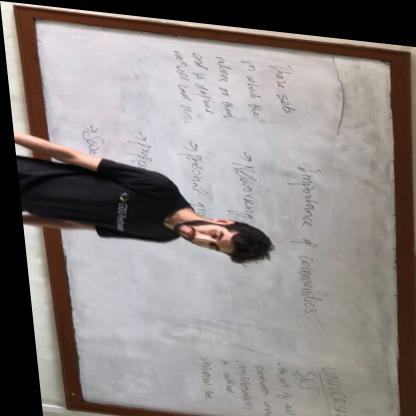Handwritten text: (278, 154, 341, 311), (172, 144, 213, 214), (217, 154, 263, 216), (162, 41, 197, 121), (234, 51, 270, 115), (267, 53, 306, 112), (208, 44, 239, 116), (313, 358, 348, 416), (189, 42, 216, 110), (183, 347, 213, 399), (225, 351, 251, 409), (118, 135, 159, 171), (265, 358, 291, 412), (71, 128, 113, 159), (245, 356, 266, 416), (210, 350, 232, 394), (288, 363, 315, 385)
Lecturer: (31, 147, 279, 265)
Whiteboard: (30, 12, 397, 416)
